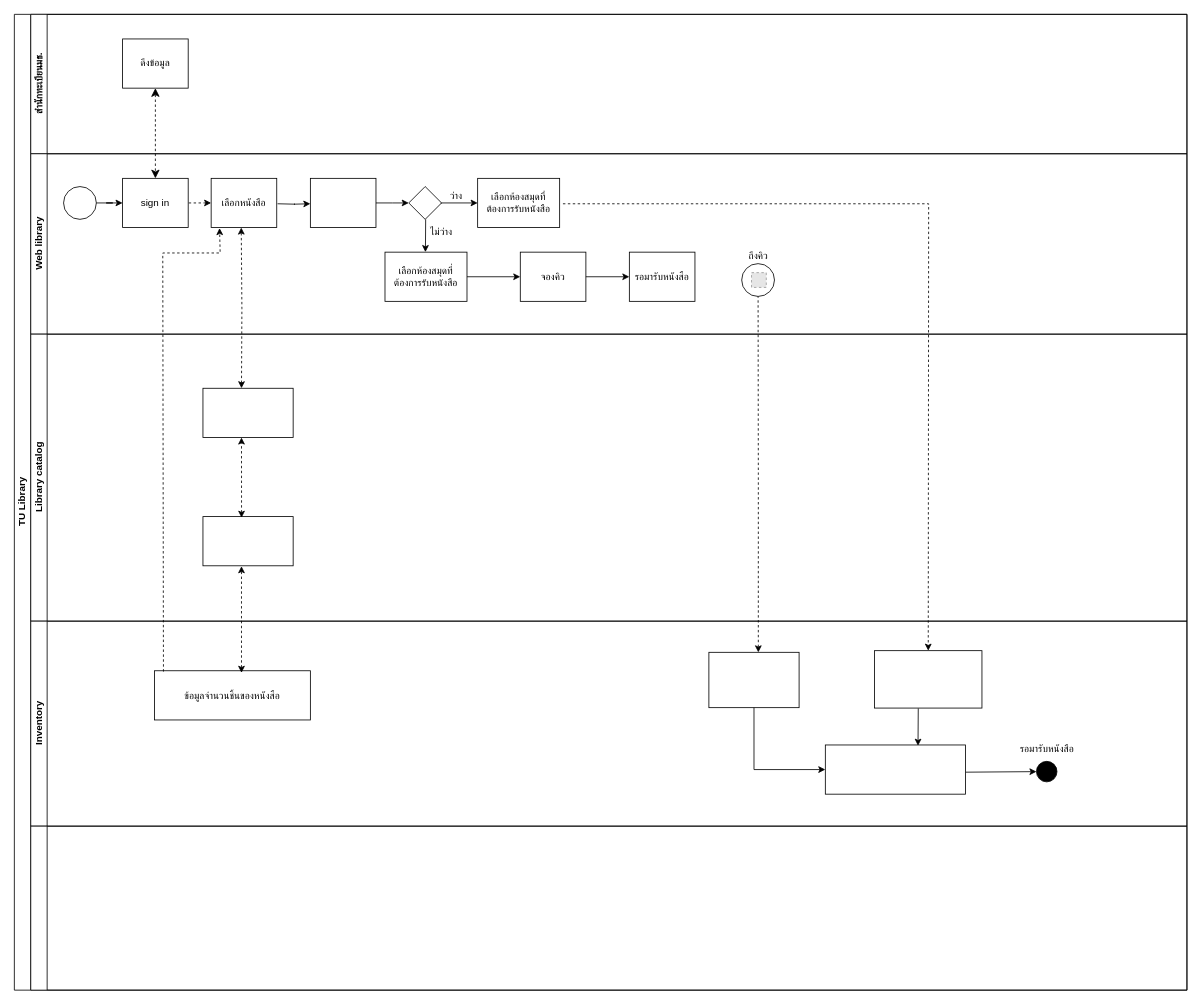
The diagram is 1201 pixels wide and 1005 high, and some of its shapes have lost their labels. Grey dashed boxes stand in for pictures. The centre of each missing label's shape, as x and y in pixels:
book check out: point 895,769
View book catalog: point 247,412
View book detail: point 247,541
กดจอง: point 343,203
หยิบหนังสือเตรียมไว้ที่ Locker: point 928,679
หยิบหนังสือเตรียมไว้ที่เคาท์เตอร์: point 753,679
